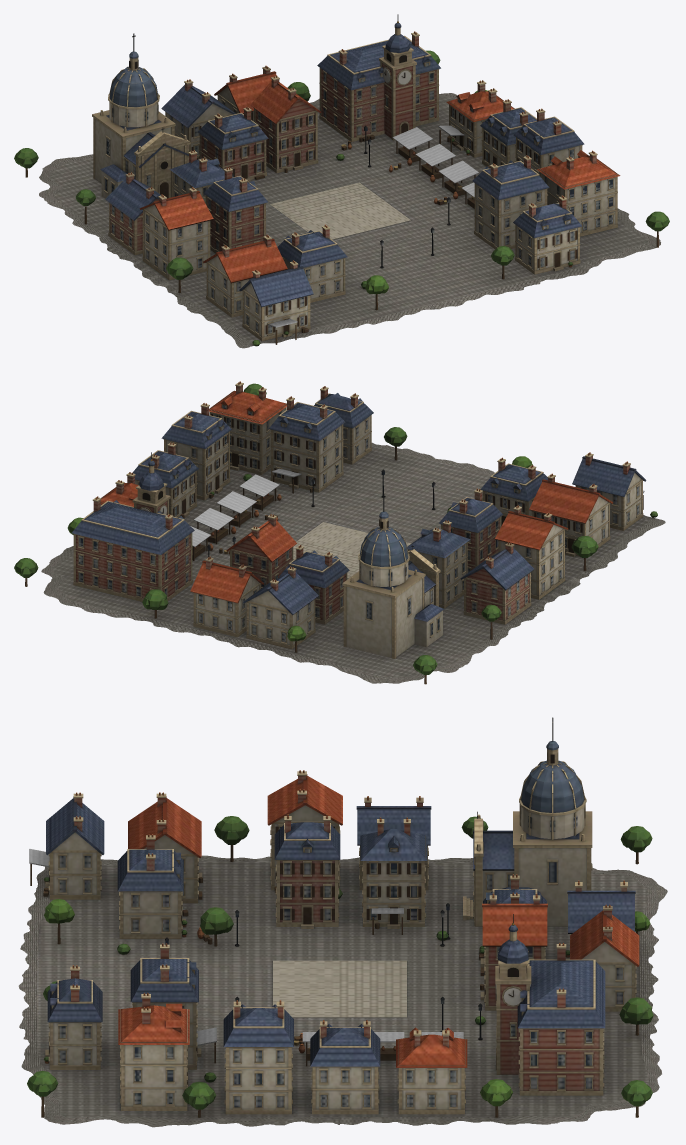
File: gunpowder-town-medium-a.glb
The picture shows the model from 3 angles, top to bottom: view 1: azimuth 30°, elevation 25°; view 2: azimuth 150°, elevation 25°; view 3: azimuth 270°, elevation 25°; orthographic projection. The views are drawn at different scales.
Parts seen in each view (by area): view 1: LOD0; view 2: LOD0; view 3: LOD0.
Boxes of the visible parts, <box> form: LOD0: <box>14,14,669,348</box>; LOD0: <box>14,381,665,684</box>; LOD0: <box>18,717,667,1127</box>.
Size of what is drawn, in the model's own units: 6.03 by 2 by 6.09.
3 materials, 3 textured.
